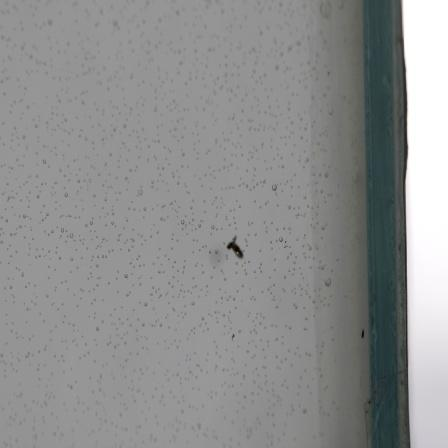Jentik-Nyamuk: (223, 232, 248, 264)
